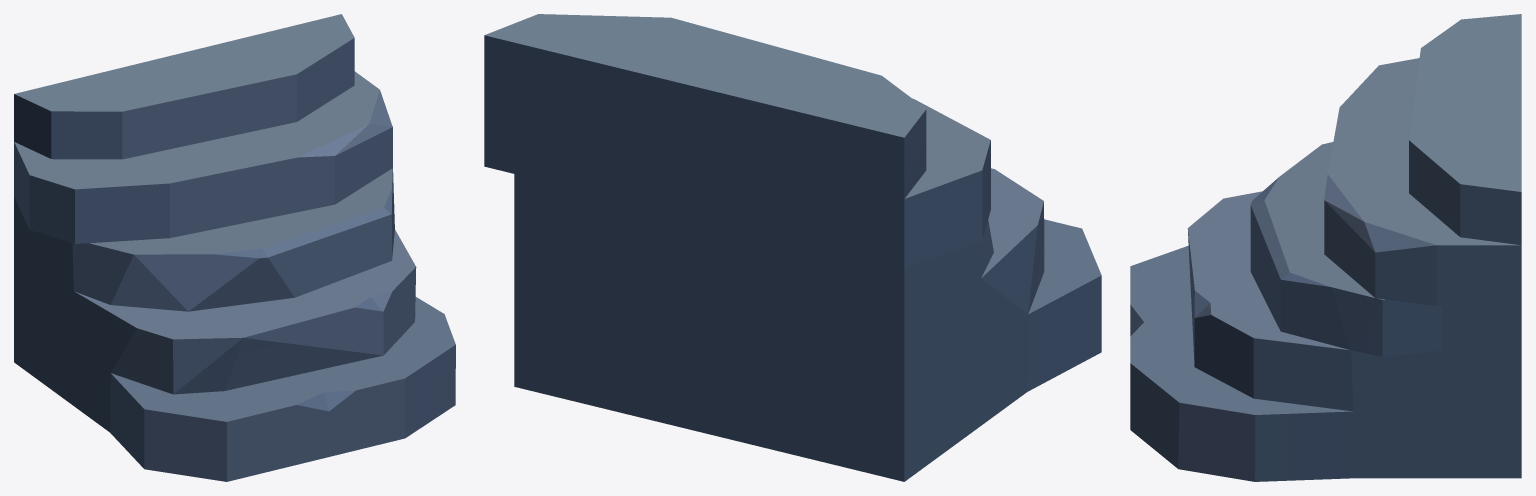
The model's file is Highland_Stairs.fbx.
3 views of the same model, side by side, from view 1: azimuth 30°, elevation 25°; view 2: azimuth 150°, elevation 25°; view 3: azimuth 270°, elevation 25° (orthographic). The views are drawn at different scales.
Parts seen in each view (by area): view 1: Highland_Stairs; view 2: Highland_Stairs; view 3: Highland_Stairs.
Boxes of the visible parts, box(x1,y1,x2,y2) form: Highland_Stairs: box(14, 14, 455, 481); Highland_Stairs: box(484, 14, 1101, 481); Highland_Stairs: box(1130, 14, 1521, 481).
Size of the model in its own units: 1.53 by 1.12 by 1.33.
